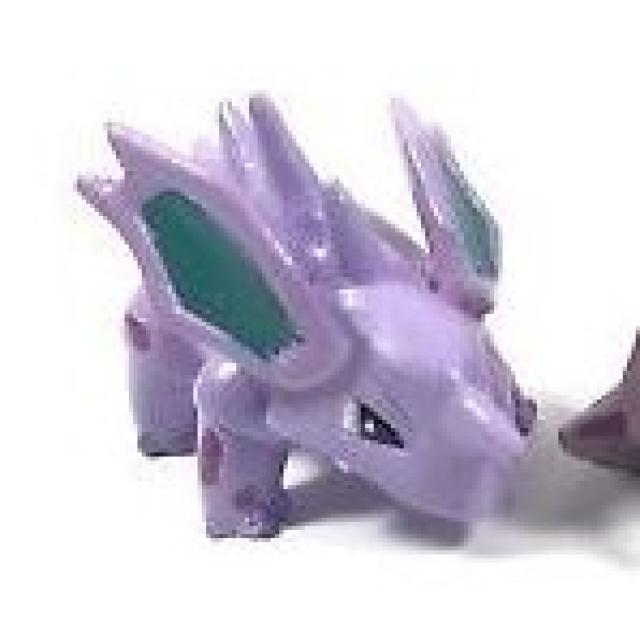Nidorino: (56, 75, 575, 603)
